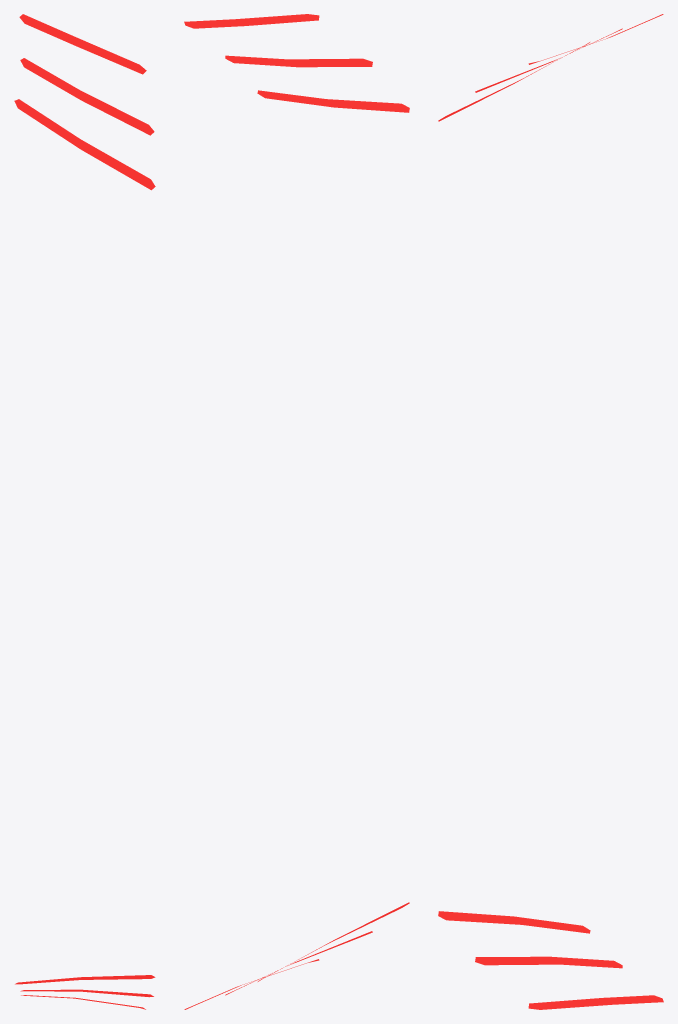
The model's file is backlights.glb.
3 views of the same model, side by side, from view 1: azimuth 90°, elevation 25°; view 2: azimuth 150°, elevation 25°; view 3: azimuth 330°, elevation 25° (orthographic).
Visible parts, largest first — view 1: backlights; view 2: backlights; view 3: backlights.
Part boxes in pixels (<box>): backlights: <box>14,14,155,1009</box>; backlights: <box>184,14,409,1009</box>; backlights: <box>438,14,663,1009</box>.
Size of the model in its own units: 0.154 by 0.9062 by 0.1182.
